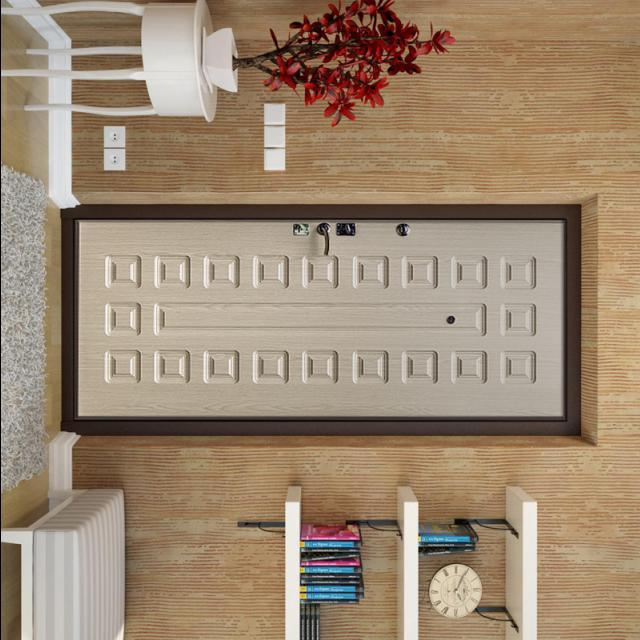close: (61, 204, 585, 434)
